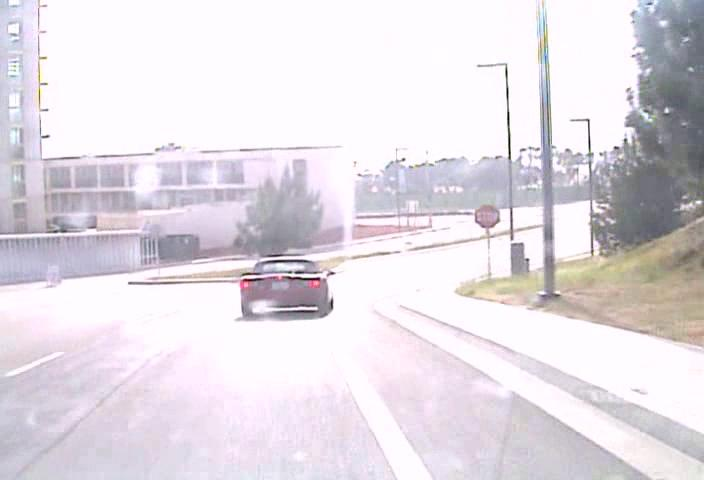stop: (474, 204, 500, 228)
